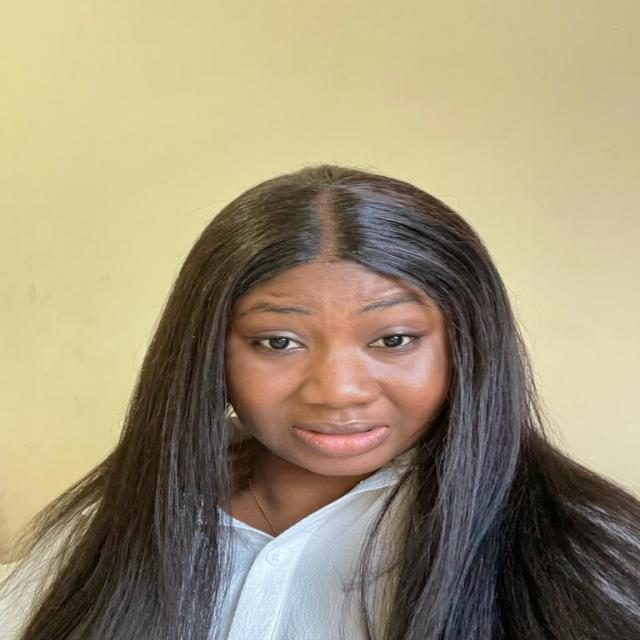sad: (200, 190, 465, 484)
